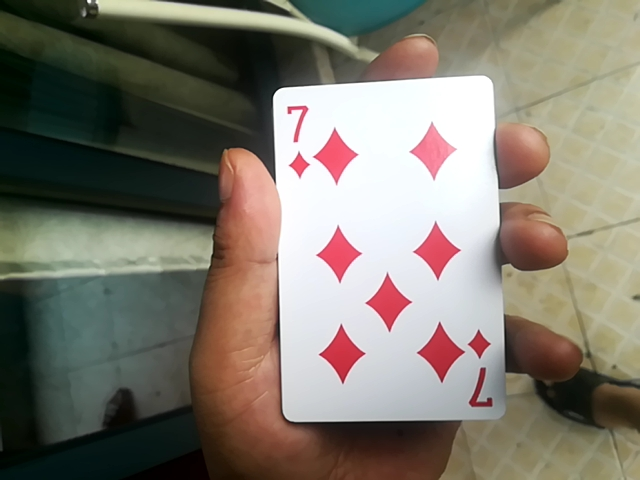fk 7: (277, 64, 515, 437)
